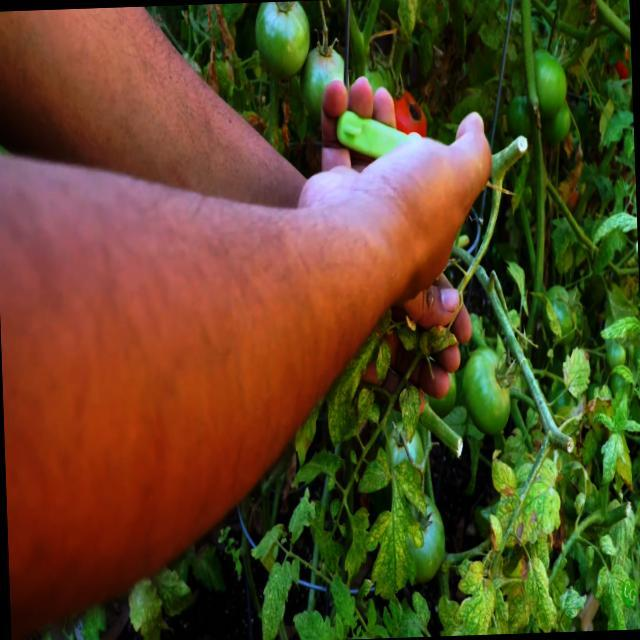Tomato spider mites leaf: (362, 459, 430, 602), (324, 330, 381, 444), (493, 461, 562, 546), (448, 554, 496, 636), (260, 558, 294, 640), (524, 553, 558, 633), (342, 507, 374, 587), (154, 564, 200, 618), (127, 576, 164, 640), (590, 210, 638, 252), (329, 568, 360, 632), (595, 562, 623, 630), (356, 444, 391, 494), (284, 486, 314, 544), (489, 446, 520, 499), (562, 344, 592, 398), (398, 384, 424, 444), (418, 320, 459, 358), (598, 432, 624, 486), (290, 609, 334, 640), (599, 314, 640, 342), (560, 585, 588, 619), (356, 384, 376, 426), (375, 339, 392, 385), (394, 323, 416, 352), (599, 534, 617, 556)
